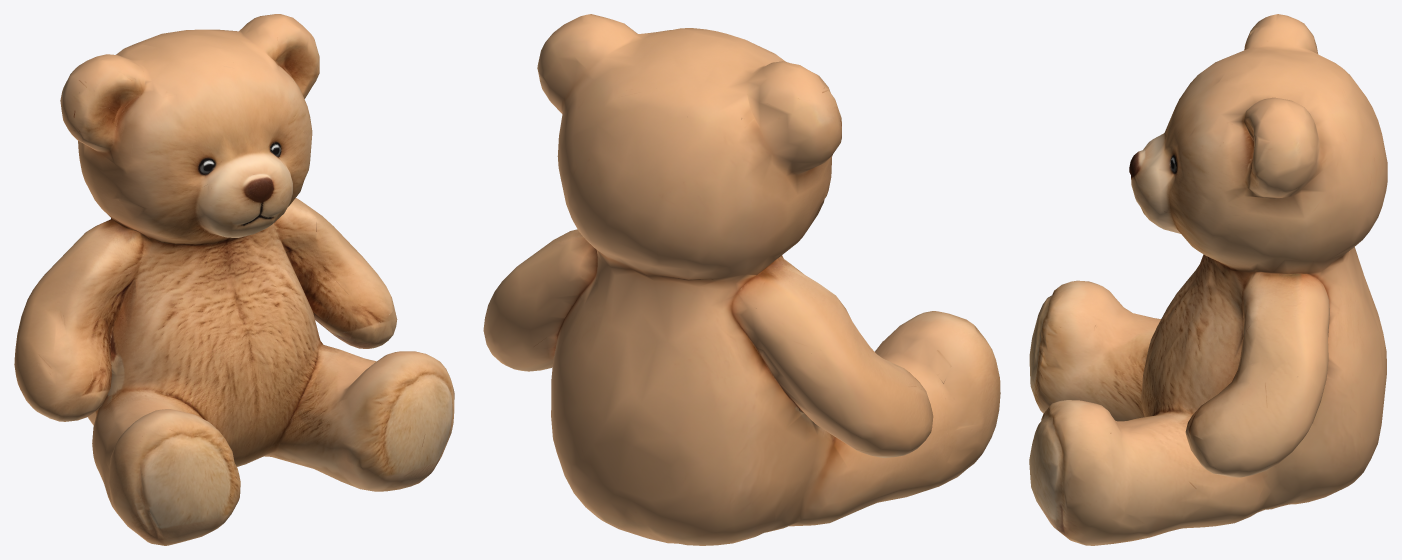
File: teddybear1_default.glb
3 renders of one model, left to right at view 1: azimuth 30°, elevation 25°; view 2: azimuth 150°, elevation 25°; view 3: azimuth 270°, elevation 25°, orthographic. The views are drawn at different scales.
Parts seen in each view (by area): view 1: A; view 2: A; view 3: A.
Boxes of the visible parts, bbox=[...] form: A: bbox=[14, 14, 454, 545]; A: bbox=[483, 14, 1000, 545]; A: bbox=[1029, 14, 1387, 545].
Bounding box in the file's own units: 1.77 × 1.92 × 1.48.
Materials: 1 (1 with a texture image).
